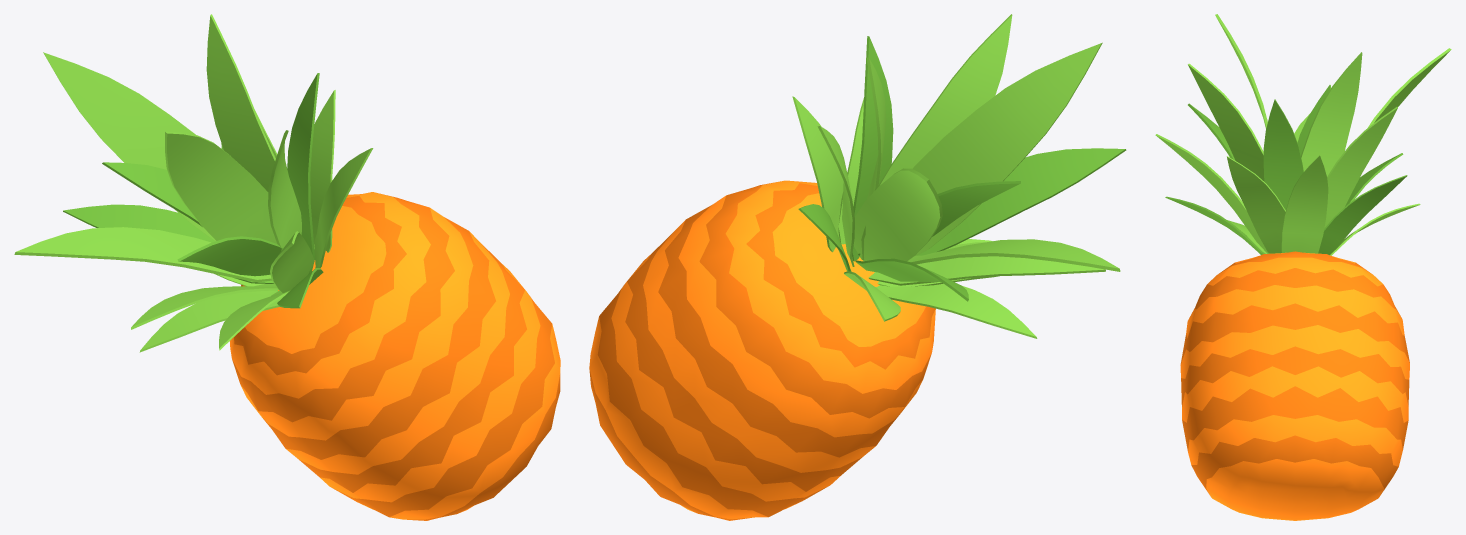
File: pineapple.gltf
The picture shows the model from 3 angles, left to right: view 1: azimuth 30°, elevation 25°; view 2: azimuth 150°, elevation 25°; view 3: azimuth 270°, elevation 25°; orthographic projection. The views are drawn at different scales.
Parts seen in each view (by area): view 1: Cube.282; view 2: Cube.282; view 3: Cube.282.
Boxes of the visible parts, x1,y1,x2,y2 form: Cube.282: (14, 14, 560, 520); Cube.282: (589, 14, 1126, 520); Cube.282: (1155, 14, 1451, 520).
Size of the model in its own units: 2.3 by 2.16 by 1.44.
Materials: 1 (1 with a texture image).
